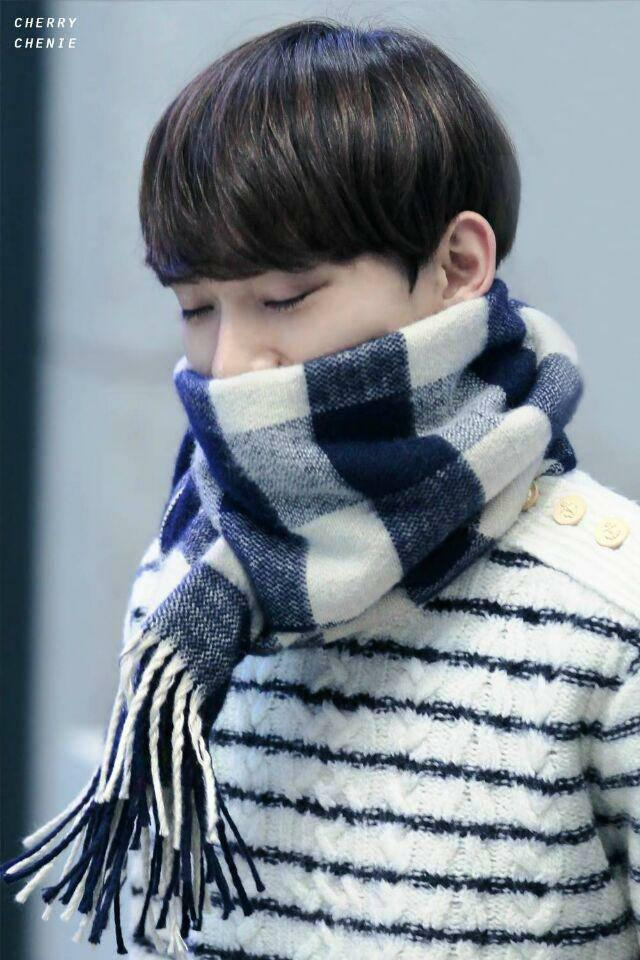WRONG: (151, 197, 450, 496)
